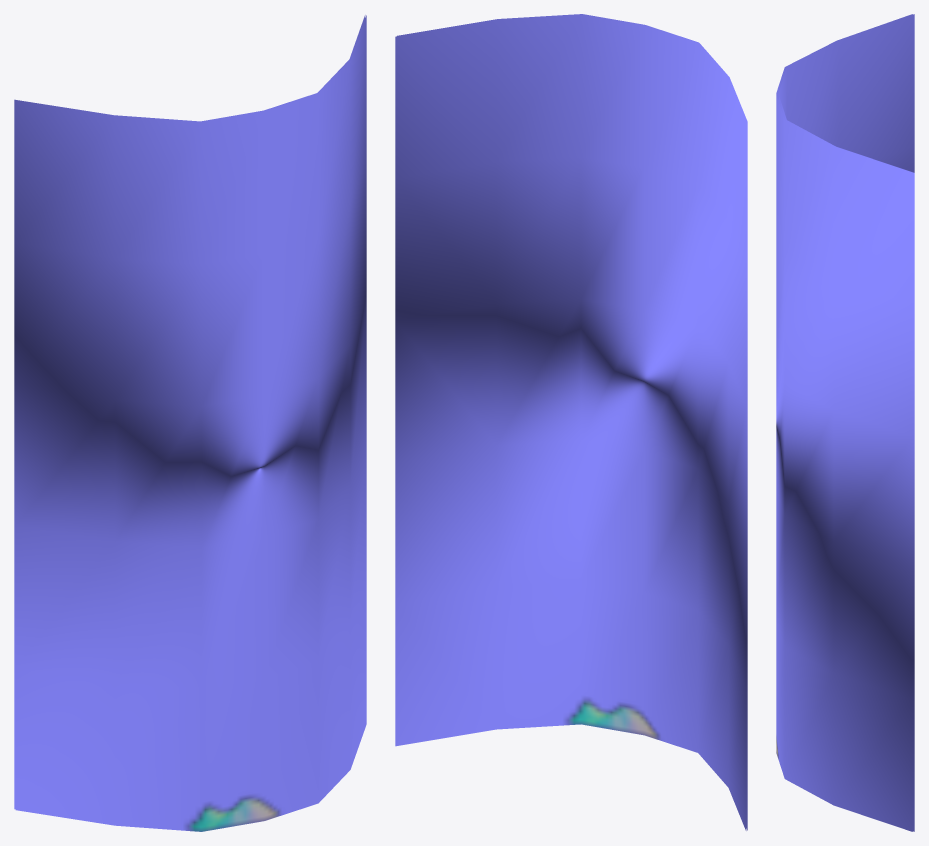
The model's file is chemicalwaterfall_splashplane03.fbx.
3 renders of one model, left to right at view 1: azimuth 30°, elevation 25°; view 2: azimuth 150°, elevation 25°; view 3: azimuth 270°, elevation 25°, orthographic. The views are drawn at different scales.
Parts seen in each view (by area): view 1: pPlane3; view 2: pPlane3; view 3: pPlane3.
Boxes of the visible parts, x1,y1,x2,y2 form: pPlane3: (14, 15, 366, 831); pPlane3: (395, 14, 747, 830); pPlane3: (776, 14, 914, 831).
Bounding box in the file's own units: 0.9991 × 1.93 × 0.3681.
1 material, 1 textured.
